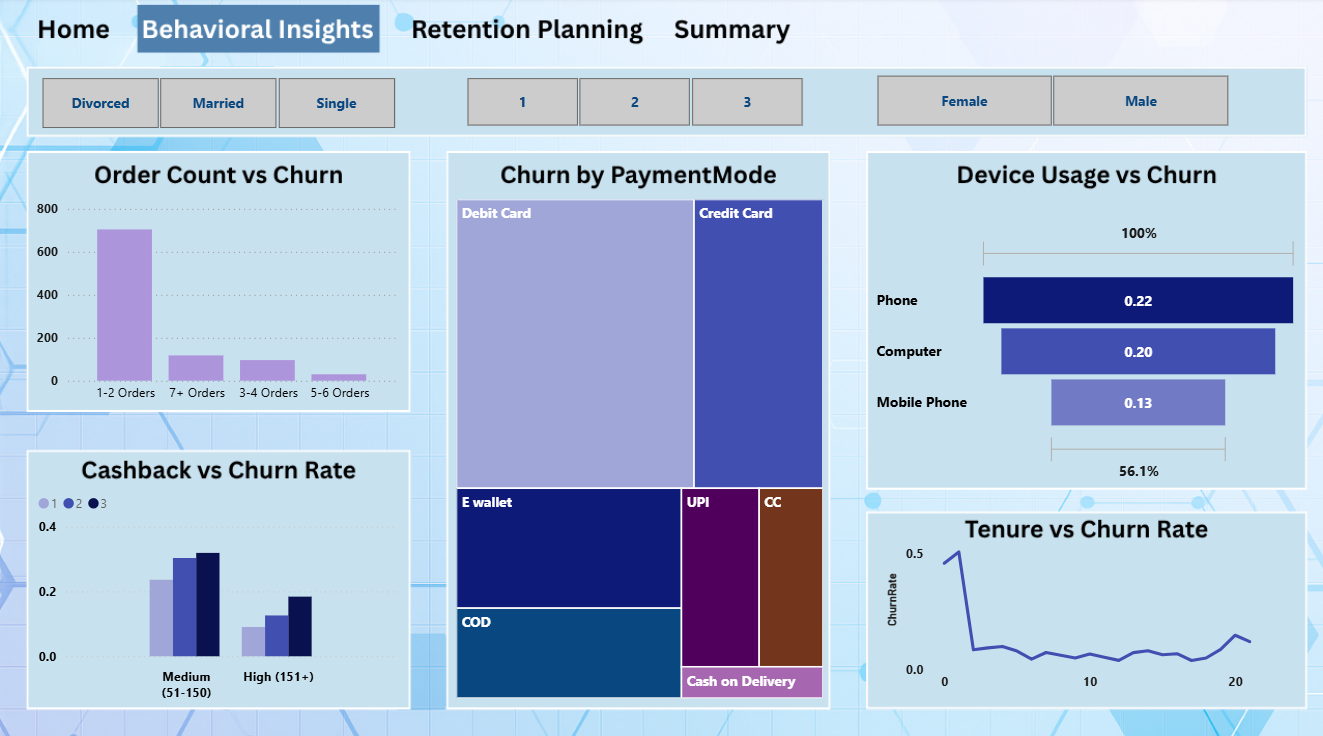

Layout of this report page (visuals, bound fields, positions):
{"tool":"powerbi","page":{"name":"Behavioral Insights","canvas":[1280,720],"ordinal":1},"visuals":[{"type":"actionButton","box":[22,12.3,100.2,39.8],"z":0},{"type":"actionButton","box":[389.7,12.3,240.1,39.8],"z":1000},{"type":"actionButton","box":[646.3,12.3,122.1,39.8],"z":2000},{"type":"clusteredColumnChart","fields":{"Category":["cleaned_churn_data.OrderBucket"],"Y":["cleaned_churn_data.Total Churns"]},"box":[31.6,190.7,358.1,209.9],"z":3000},{"type":"clusteredColumnChart","fields":{"Category":["cleaned_churn_data.CashbackBucket"],"Y":["cleaned_churn_data.ChurnRate"],"Series":["cleaned_churn_data.CityTier"]},"box":[32.9,469.3,358.1,218.2],"z":4000},{"type":"treemap","fields":{"Group":["cleaned_churn_data.PreferredPaymentMode"],"Values":["cleaned_churn_data.Total Churns"]},"box":[436.4,190.7,363.6,491.3],"z":5000},{"type":"funnel","fields":{"Category":["cleaned_churn_data.PreferredLoginDevice"],"Y":["cleaned_churn_data.ChurnRateByDevice"]},"box":[842.5,211.3,417.2,262.1],"z":6000},{"type":"lineChart","fields":{"Category":["cleaned_churn_data.Tenure"],"Y":["cleaned_churn_data.ChurnRate"]},"box":[852.1,500.9,426.8,178.4],"z":7000},{"type":"slicer","fields":{"Values":["cleaned_churn_data.CityTier"]},"box":[426.2,71.2,373.8,60],"z":8000},{"type":"slicer","fields":{"Values":["cleaned_churn_data.Gender"]},"box":[821.2,68.8,388.8,62.5],"z":9000},{"type":"slicer","fields":{"Values":["cleaned_churn_data.MaritalStatus"]},"box":[16.2,71.2,390,62.5],"z":10000}]}

Visuals, with their boxes in screenshot pixels (x1, y1, x2, y2), scaled from the page's 1280x720 canvas onto the 1323x736 screenshot:
actionButton: {"left": 23, "top": 13, "right": 126, "bottom": 53}
actionButton: {"left": 403, "top": 13, "right": 651, "bottom": 53}
actionButton: {"left": 668, "top": 13, "right": 794, "bottom": 53}
clusteredColumnChart - cleaned_churn_data.OrderBucket x cleaned_churn_data.Total Churns: {"left": 33, "top": 195, "right": 403, "bottom": 410}
clusteredColumnChart - cleaned_churn_data.CashbackBucket x cleaned_churn_data.ChurnRate: {"left": 34, "top": 480, "right": 404, "bottom": 703}
treemap - cleaned_churn_data.PreferredPaymentMode x cleaned_churn_data.Total Churns: {"left": 451, "top": 195, "right": 827, "bottom": 697}
funnel - cleaned_churn_data.PreferredLoginDevice x cleaned_churn_data.ChurnRateByDevice: {"left": 871, "top": 216, "right": 1302, "bottom": 484}
lineChart - cleaned_churn_data.Tenure x cleaned_churn_data.ChurnRate: {"left": 881, "top": 512, "right": 1322, "bottom": 694}
slicer - cleaned_churn_data.CityTier: {"left": 441, "top": 73, "right": 827, "bottom": 134}
slicer - cleaned_churn_data.Gender: {"left": 849, "top": 70, "right": 1251, "bottom": 134}
slicer - cleaned_churn_data.MaritalStatus: {"left": 17, "top": 73, "right": 420, "bottom": 137}
